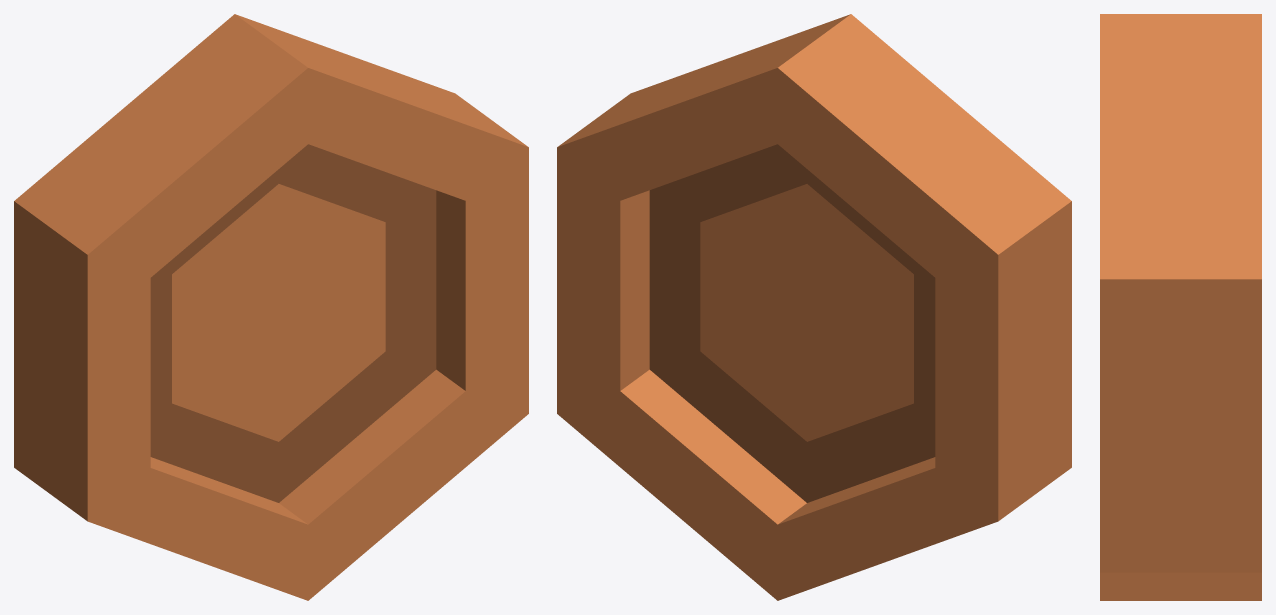
File: coinBronze.obj
3 renders of one model, left to right at view 1: azimuth 30°, elevation 25°; view 2: azimuth 150°, elevation 25°; view 3: azimuth 270°, elevation 25°, orthographic. The views are drawn at different scales.
Visible parts, largest first — view 1: coinBronze; view 2: coinBronze; view 3: coinBronze.
Boxes of the visible parts, bbox=[...] form: coinBronze: bbox=[14, 14, 528, 600]; coinBronze: bbox=[557, 14, 1071, 600]; coinBronze: bbox=[1100, 14, 1261, 600].
Size of the model in its own units: 0.3464 by 0.4 by 0.1.
